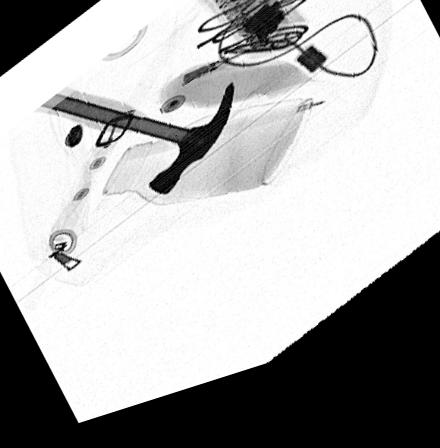Hammer: (32, 86, 237, 206)
